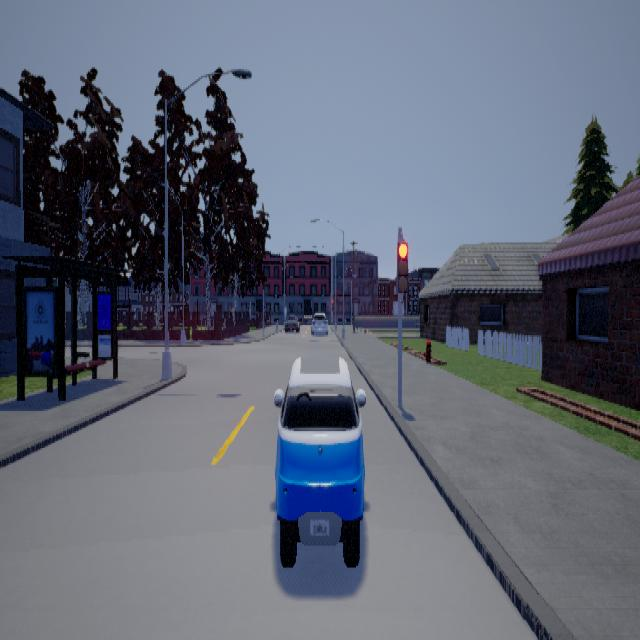red_light: (395, 231, 407, 301)
vehicle: (273, 354, 365, 566), (309, 310, 328, 337), (283, 315, 298, 332)
